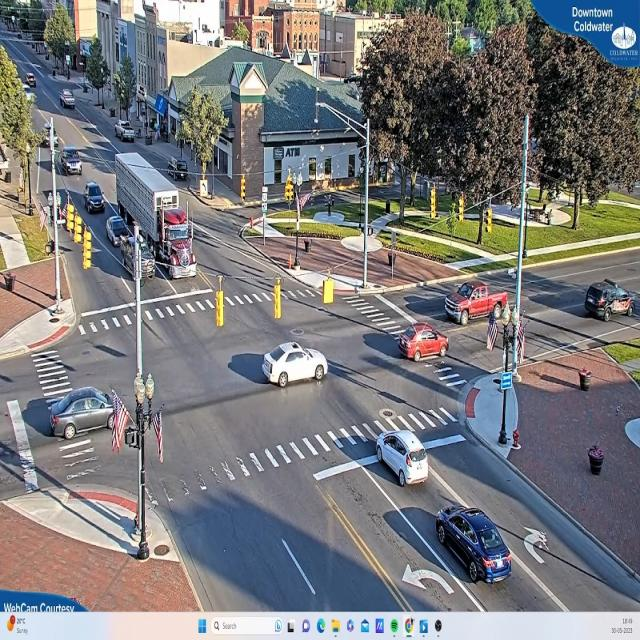car: (434, 507, 513, 586), (52, 386, 118, 443), (375, 429, 430, 487), (262, 344, 328, 388), (444, 284, 510, 325), (400, 324, 449, 362), (108, 216, 136, 245), (83, 182, 104, 214), (117, 121, 137, 144), (60, 91, 76, 108)
motorbike: (584, 279, 635, 320)
